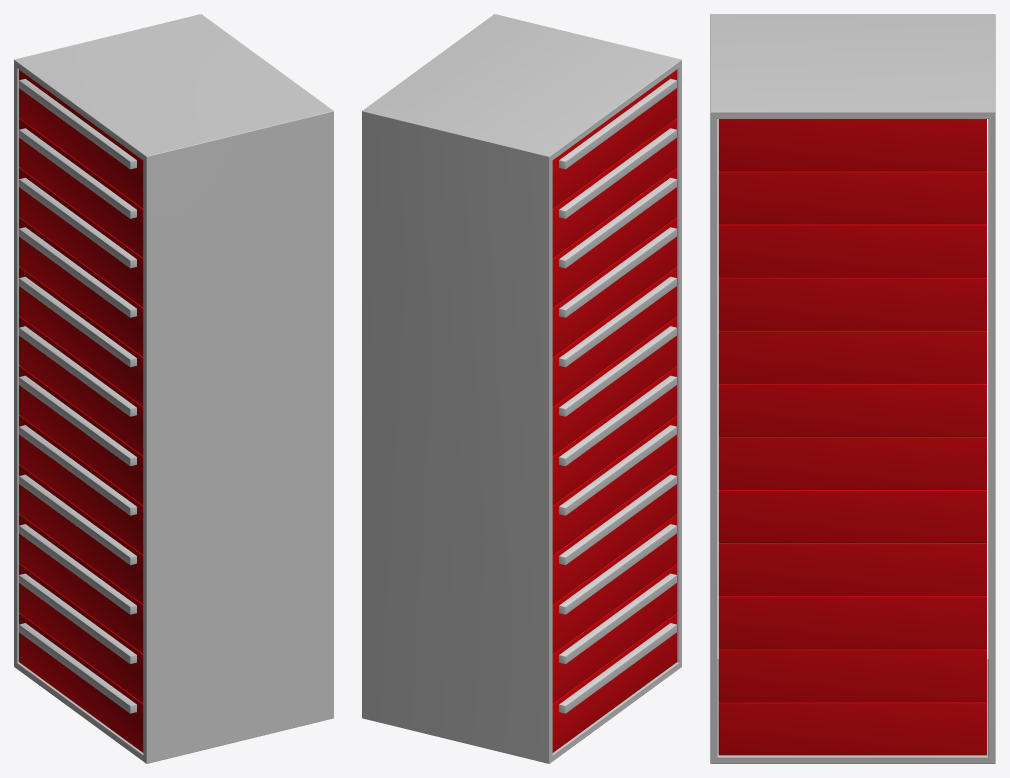
The model's file is SM_Cabinet_Large.fbx.
3 views of the same model, side by side, from view 1: azimuth 30°, elevation 25°; view 2: azimuth 150°, elevation 25°; view 3: azimuth 270°, elevation 25° (orthographic). The views are drawn at different scales.
Parts seen in each view (by area): view 1: conteneur_tiroirs.012, poignee_09.032, poignee_09.031, poignee_09.030, poignee_09.027, poignee_09.026, poignee_09.022, poignee_09.023, poignee_09.024, poignee_09.033, poignee_09.029, poignee_09.025 (+1 smaller); view 2: conteneur_tiroirs.012, poignee_09.032, poignee_09.031, poignee_09.030, poignee_09.027, poignee_09.026, poignee_09.025, poignee_09.022, poignee_09.023, poignee_09.024, poignee_09.033, poignee_09.029 (+1 smaller); view 3: conteneur_tiroirs.012, poignee_09.033, poignee_09.032, poignee_09.031, poignee_09.030, poignee_09.029, poignee_09.022, poignee_09.023, poignee_09.024, poignee_09.025, poignee_09.027, poignee_09.026 (+1 smaller).
Part boxes in pixels (left/top/right/bottom): conteneur_tiroirs.012: left=14, top=14, right=333, bottom=763; poignee_09.032: left=19, top=267, right=143, bottom=406; poignee_09.031: left=19, top=316, right=143, bottom=455; poignee_09.030: left=19, top=168, right=143, bottom=307; poignee_09.027: left=19, top=366, right=143, bottom=505; poignee_09.026: left=19, top=415, right=143, bottom=554; poignee_09.022: left=19, top=613, right=143, bottom=752; poignee_09.023: left=19, top=563, right=143, bottom=703; poignee_09.024: left=19, top=514, right=143, bottom=653; poignee_09.033: left=19, top=217, right=143, bottom=356; poignee_09.029: left=19, top=118, right=143, bottom=257; poignee_09.025: left=19, top=465, right=143, bottom=604; conteneur_tiroirs.012: left=362, top=14, right=681, bottom=763; poignee_09.032: left=552, top=267, right=676, bottom=406; poignee_09.031: left=552, top=316, right=676, bottom=455; poignee_09.030: left=552, top=168, right=676, bottom=307; poignee_09.027: left=552, top=366, right=676, bottom=505; poignee_09.026: left=552, top=415, right=676, bottom=554; poignee_09.025: left=552, top=465, right=676, bottom=604; poignee_09.022: left=552, top=613, right=676, bottom=752; poignee_09.023: left=552, top=563, right=676, bottom=703; poignee_09.024: left=552, top=514, right=676, bottom=653; poignee_09.033: left=552, top=217, right=676, bottom=356; poignee_09.029: left=552, top=118, right=676, bottom=257; conteneur_tiroirs.012: left=710, top=14, right=995, bottom=763; poignee_09.033: left=718, top=277, right=986, bottom=330; poignee_09.032: left=718, top=330, right=986, bottom=383; poignee_09.031: left=718, top=383, right=986, bottom=436; poignee_09.030: left=718, top=224, right=986, bottom=277; poignee_09.029: left=718, top=171, right=986, bottom=224; poignee_09.022: left=718, top=702, right=986, bottom=755; poignee_09.023: left=718, top=649, right=986, bottom=702; poignee_09.024: left=718, top=596, right=986, bottom=649; poignee_09.025: left=718, top=542, right=986, bottom=596; poignee_09.027: left=718, top=436, right=986, bottom=489; poignee_09.026: left=718, top=489, right=986, bottom=542.
Size of the model in its own units: 52.13 by 157 by 62.07.
